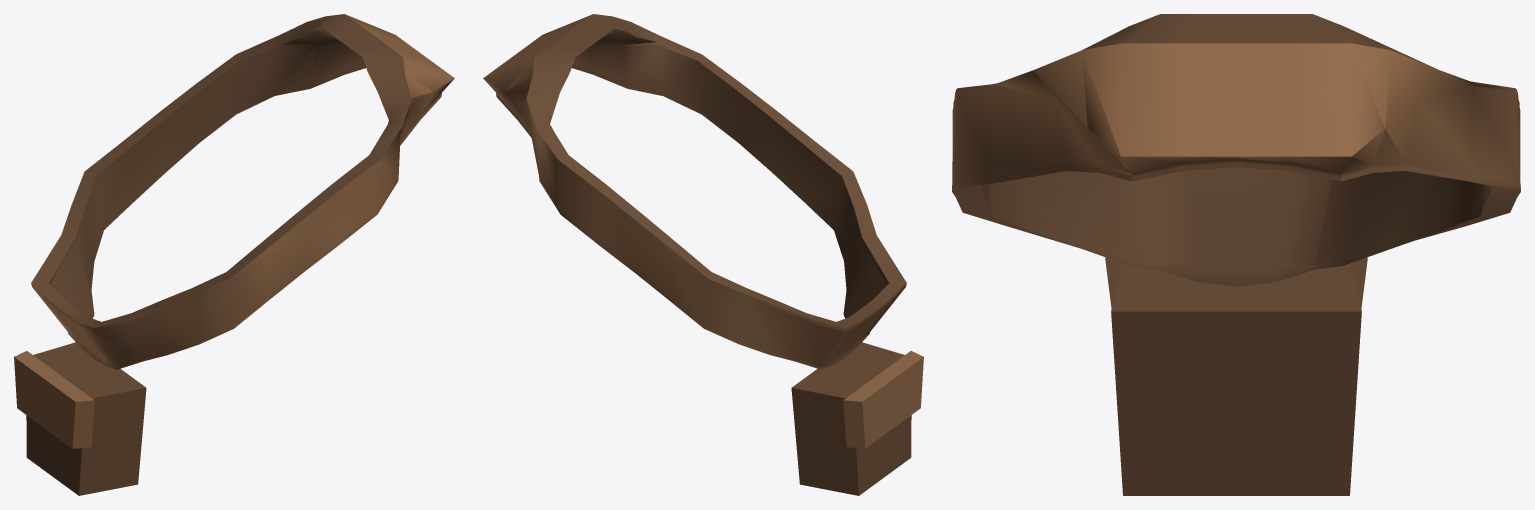
The model's file is person_hulk_bandolier_overvest.obj.
The picture shows the model from 3 angles, left to right: view 1: azimuth 30°, elevation 25°; view 2: azimuth 150°, elevation 25°; view 3: azimuth 270°, elevation 25°; orthographic projection. The views are drawn at different scales.
Parts seen in each view (by area): view 1: person_hulk_bandolier_overvest; view 2: person_hulk_bandolier_overvest; view 3: person_hulk_bandolier_overvest.
Part boxes in pixels (x1,y1,x2,y2): person_hulk_bandolier_overvest: (14,14,454,495); person_hulk_bandolier_overvest: (483,14,923,495); person_hulk_bandolier_overvest: (952,14,1520,495).
Bounding box in the file's own units: 0.7129 × 0.65 × 0.4762.
